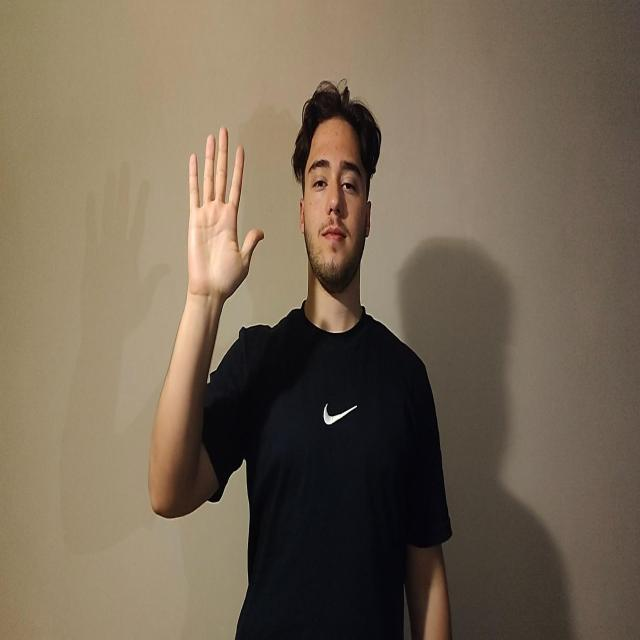hello: (187, 125, 264, 302)
